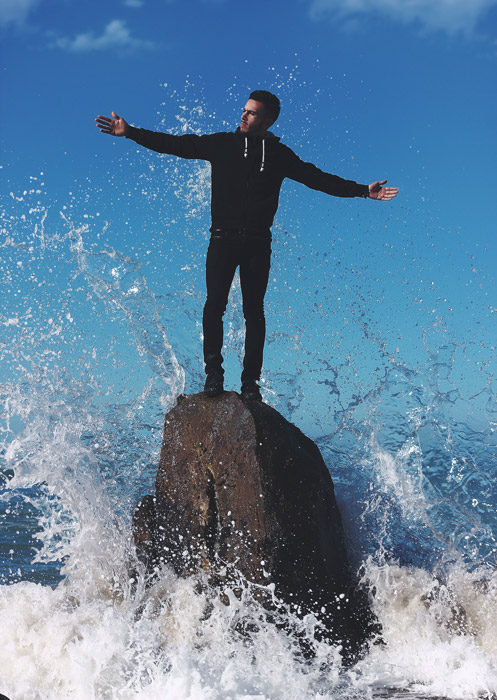male: (93, 87, 403, 401)
